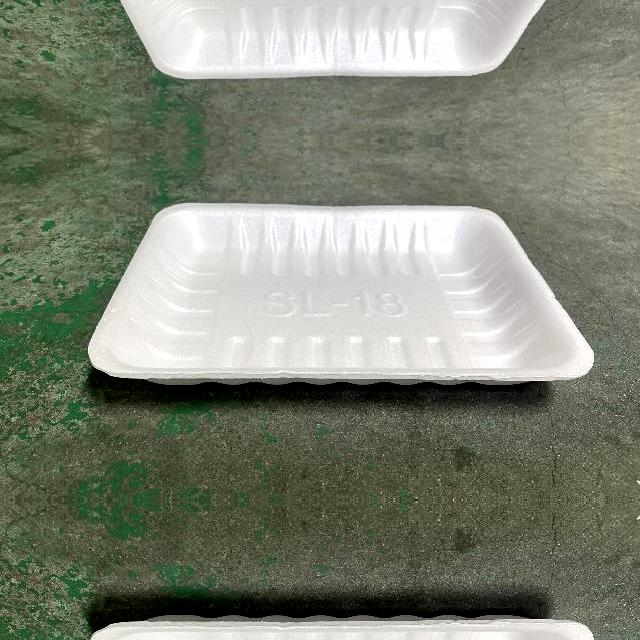Styrofoam: (87, 201, 595, 385), (88, 201, 595, 385), (87, 0, 595, 79), (120, 0, 546, 79)
